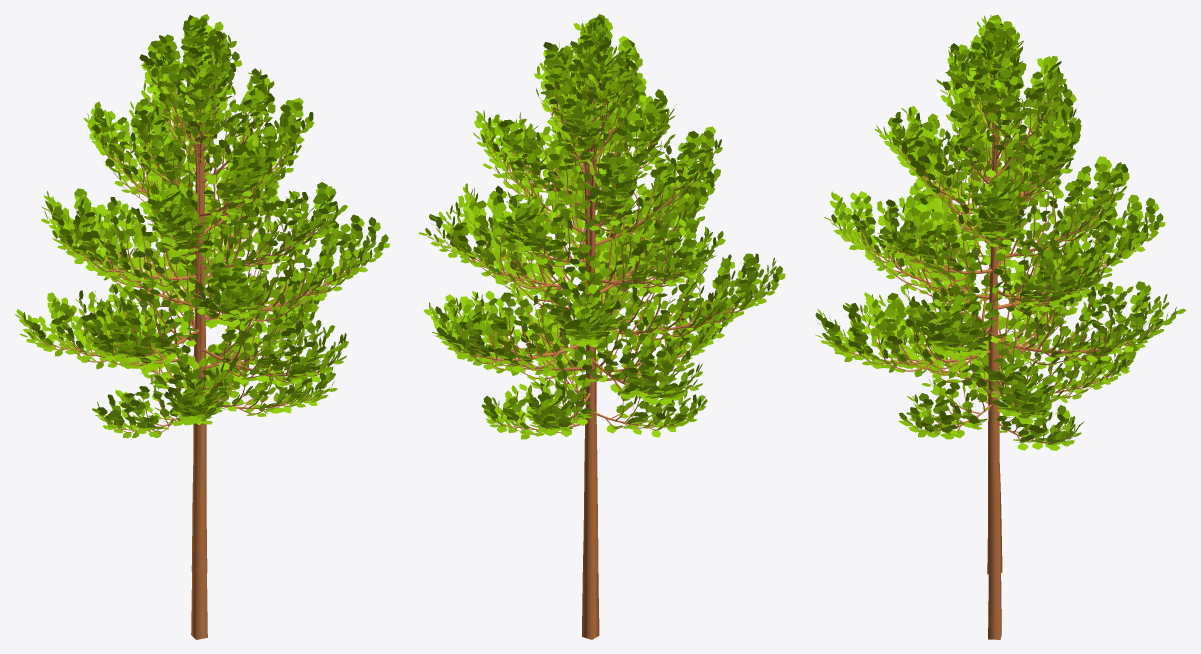
The model's file is arvore.fbx.
3 renders of one model, left to right at view 1: azimuth 30°, elevation 25°; view 2: azimuth 150°, elevation 25°; view 3: azimuth 270°, elevation 25°, orthographic.
Parts seen in each view (by area): view 1: leaves, tree; view 2: leaves, tree; view 3: leaves, tree.
Boxes of the visible parts, x1,y1,x2,y2 form: leaves: (14,14,389,438); tree: (21,28,378,639); leaves: (418,14,785,439); tree: (428,27,778,639); leaves: (815,14,1186,450); tree: (822,28,1175,639).
Size of the model in its own units: 575 by 1098 by 598.
